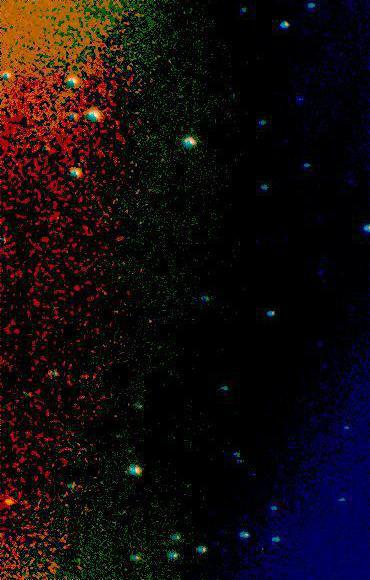star: (0, 486, 21, 516)
